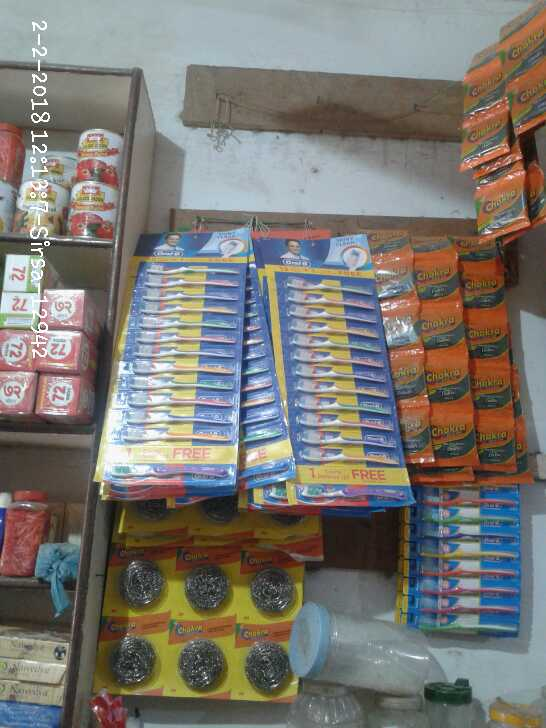oralb: (123, 256, 242, 471), (291, 271, 399, 468), (408, 493, 519, 629)
